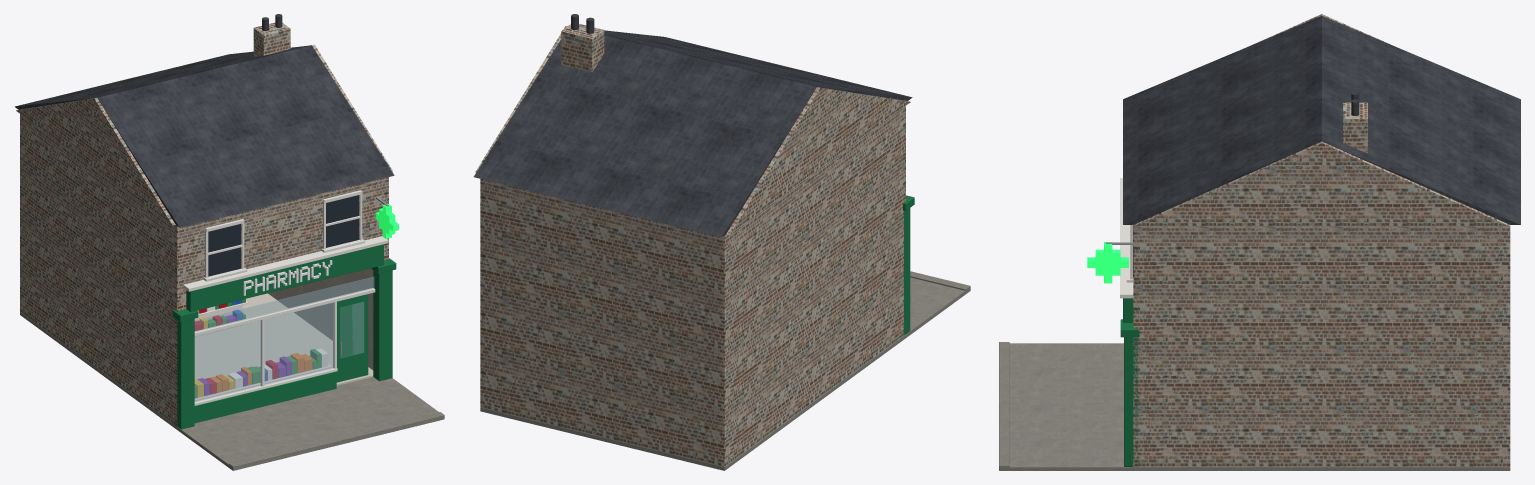
The model's file is a-realistic-pharmacy-91558-realistic.glb.
The picture shows the model from 3 angles, left to right: view 1: azimuth 30°, elevation 25°; view 2: azimuth 150°, elevation 25°; view 3: azimuth 270°, elevation 25°; orthographic projection. The views are drawn at different scales.
Parts seen in each view (by area): view 1: shop; view 2: shop; view 3: shop.
Part boxes in pixels (x1=…): shop: x1=15, y1=14, x2=444, y2=470; shop: x1=473, y1=14, x2=970, y2=470; shop: x1=999, y1=14, x2=1520, y2=470.
Bounding box in the file's own units: 7.3 × 9.47 × 12.45.
Materials: 19 (5 with a texture image).
